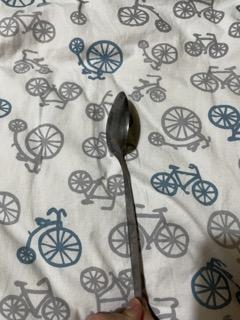spoon: (106, 89, 149, 311)
